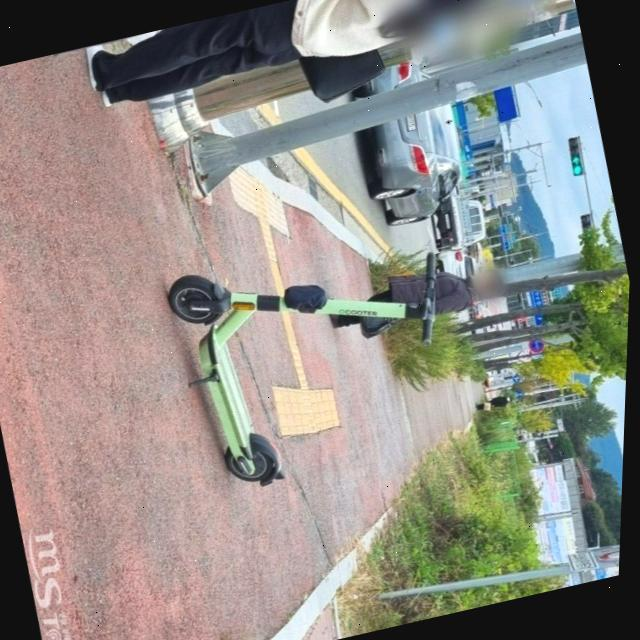kickboard_no: (132, 272, 326, 349)
tactile_paving: (230, 170, 296, 297)
